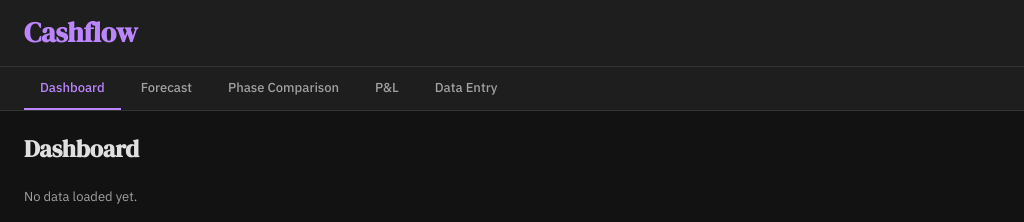
Test: App › switches to the Phase Comparison tab when clicked
The width and height of the screenshot is (1024, 222).
Click the button "Phase Comparison": click(284, 88) [212,67,355,110]
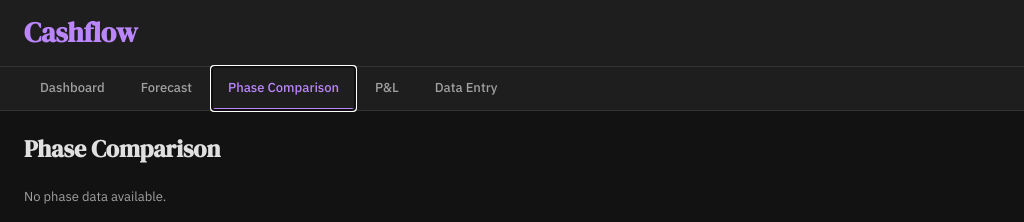
Check: the text "No phase data available." is shown, box [24,188,166,205]
